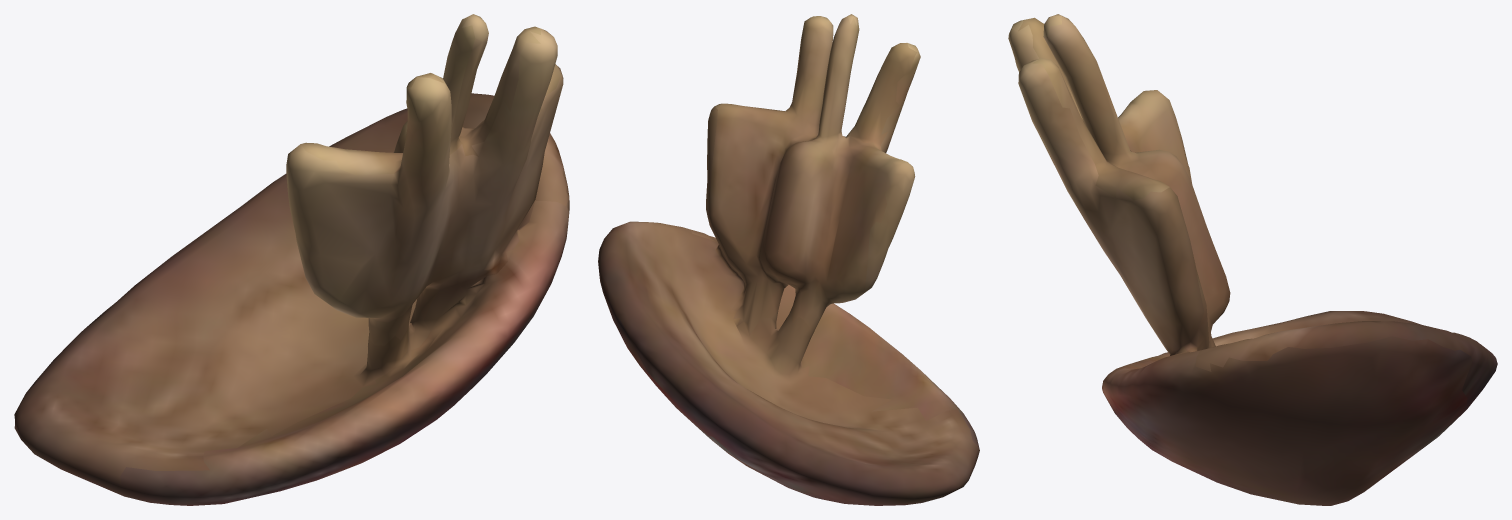
Rendered from v13_prato_raizes.glb.
3 renders of one model, left to right at view 1: azimuth 30°, elevation 25°; view 2: azimuth 150°, elevation 25°; view 3: azimuth 270°, elevation 25°, orthographic. The views are drawn at different scales.
Parts seen in each view (by area): view 1: v13_prato_raizes; view 2: v13_prato_raizes; view 3: v13_prato_raizes.
Part boxes in pixels (x1,y1,x2,y2): v13_prato_raizes: [14, 14, 569, 505]; v13_prato_raizes: [598, 14, 979, 505]; v13_prato_raizes: [1008, 14, 1497, 505].
Bounding box in the file's own units: 0.3171 × 0.3153 × 0.2783.
Materials: 1 (1 with a texture image).
